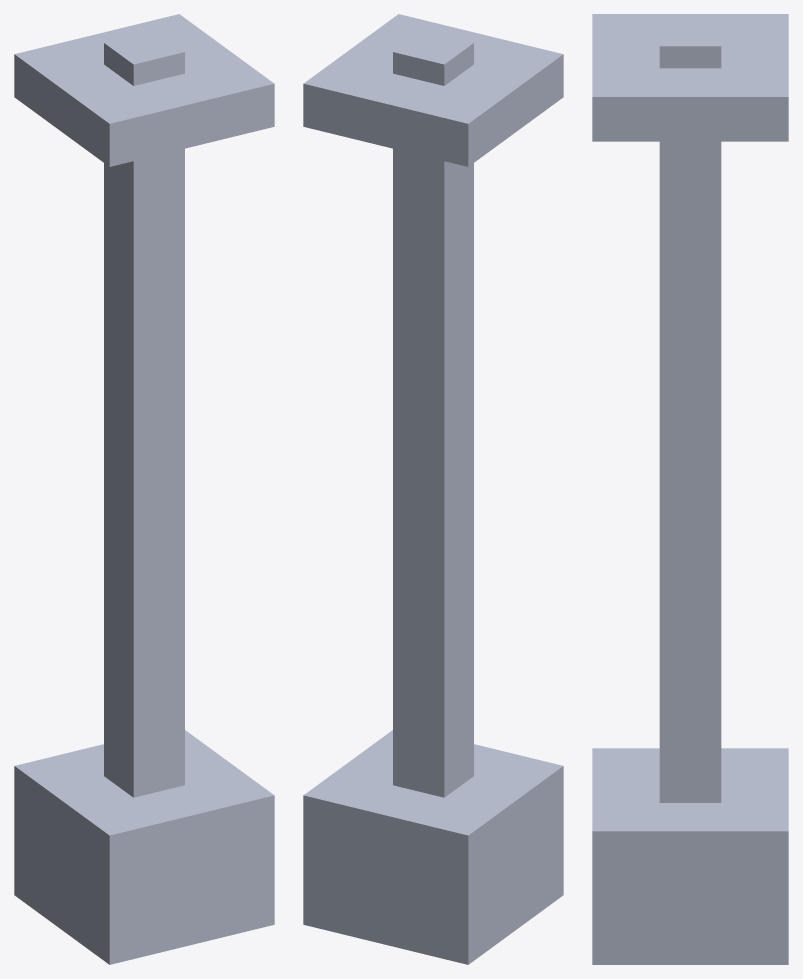
Rendered from comm.gltf.
The picture shows the model from 3 angles, left to right: view 1: azimuth 30°, elevation 25°; view 2: azimuth 150°, elevation 25°; view 3: azimuth 270°, elevation 25°; orthographic projection. The views are drawn at different scales.
Size of the model in its own units: 8 by 40 by 8.
